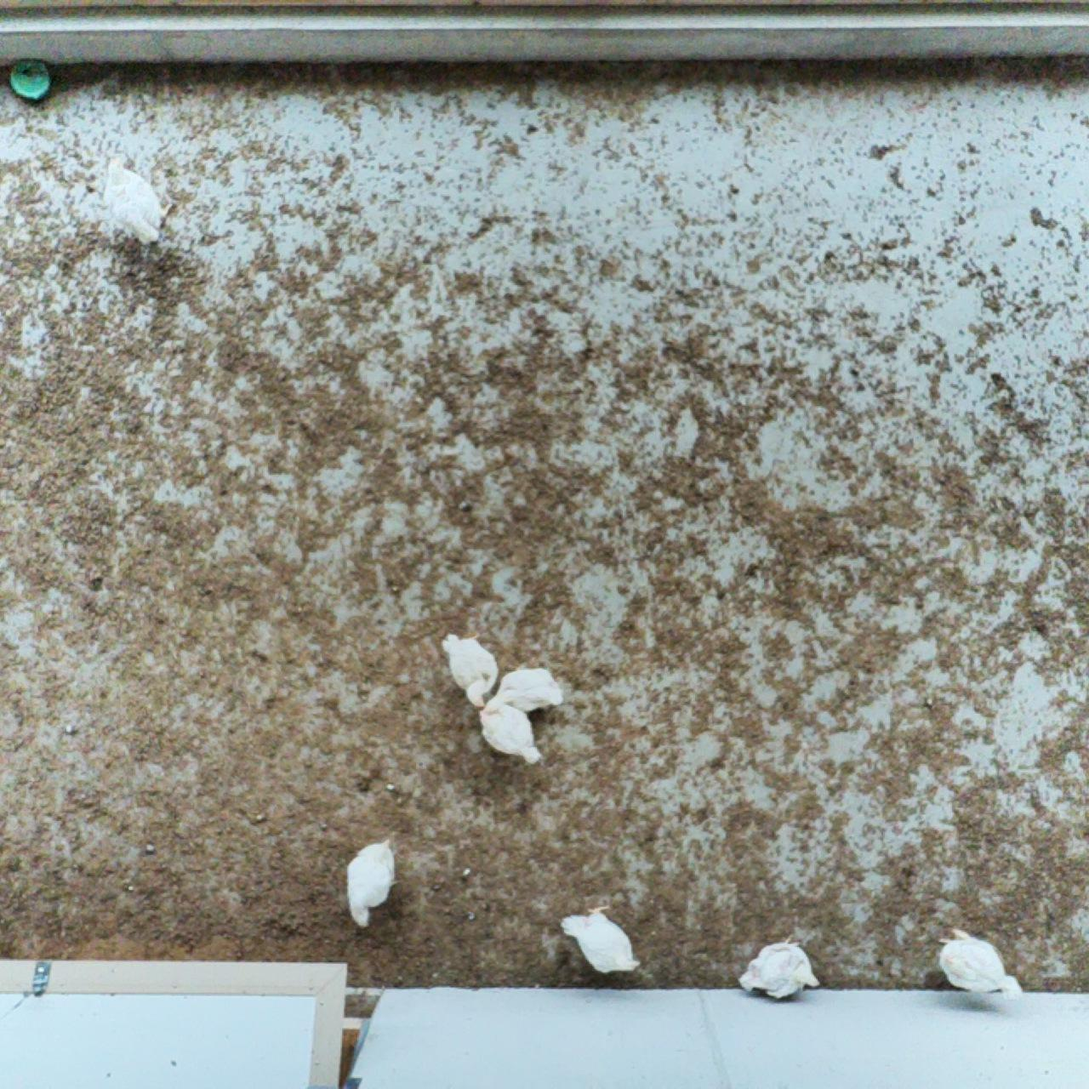chicken: (931, 923, 1029, 1006), (558, 900, 644, 978), (734, 930, 824, 1004), (343, 834, 400, 940), (435, 629, 500, 714), (482, 658, 568, 718)
